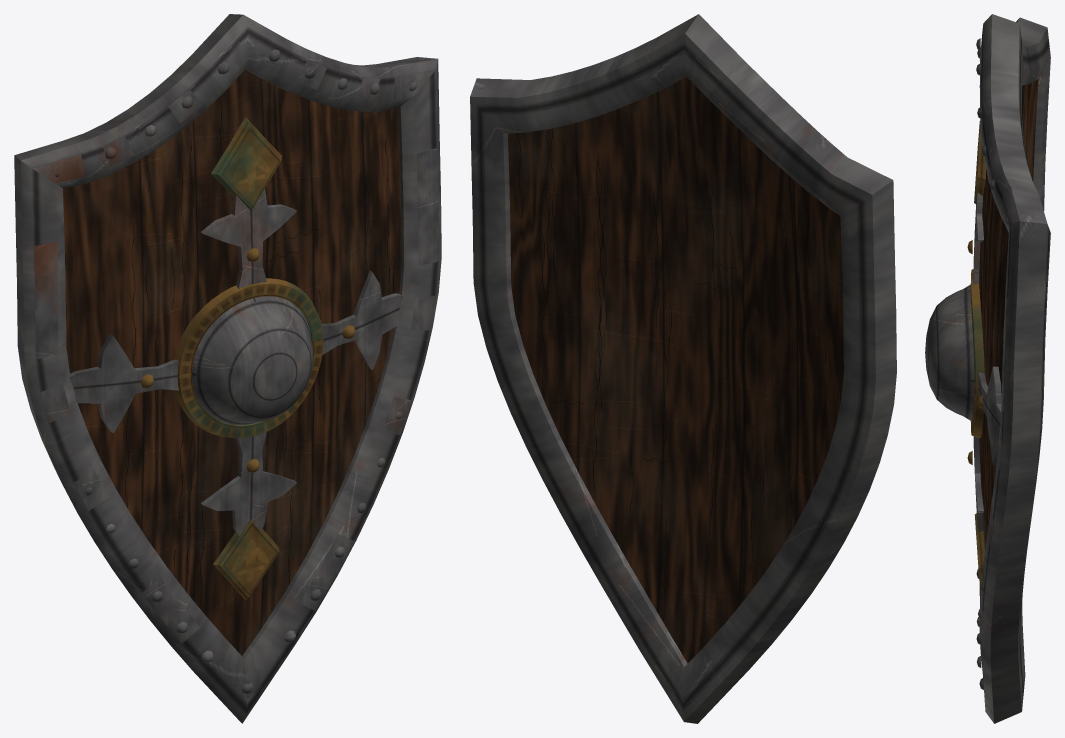
The model's file is shield.glb.
3 renders of one model, left to right at view 1: azimuth 30°, elevation 25°; view 2: azimuth 150°, elevation 25°; view 3: azimuth 270°, elevation 25°, orthographic.
Parts seen in each view (by area): view 1: Escudo_Acero, Escudo_Madera, Escudo_Bronce; view 2: Escudo_Madera, Escudo_Acero; view 3: Escudo_Acero, Escudo_Madera, Escudo_Bronce.
Part boxes in pixels (left/top/right/bottom): Escudo_Acero: left=14, top=14, right=441, bottom=723; Escudo_Madera: left=63, top=69, right=401, bottom=655; Escudo_Bronce: left=141, top=117, right=355, bottom=599; Escudo_Madera: left=508, top=76, right=843, bottom=663; Escudo_Acero: left=470, top=14, right=896, bottom=723; Escudo_Acero: left=925, top=14, right=1050, bottom=723; Escudo_Madera: left=979, top=79, right=1038, bottom=549; Escudo_Bronce: left=967, top=120, right=985, bottom=591.
Bounding box in the file's own units: 0.87 × 1.41 × 0.2271.
Materials: 3 (3 with a texture image).
